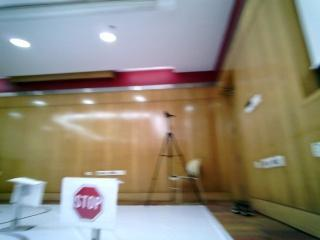stop: (63, 178, 111, 227)
